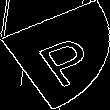P_NW: (17, 24, 93, 86)
